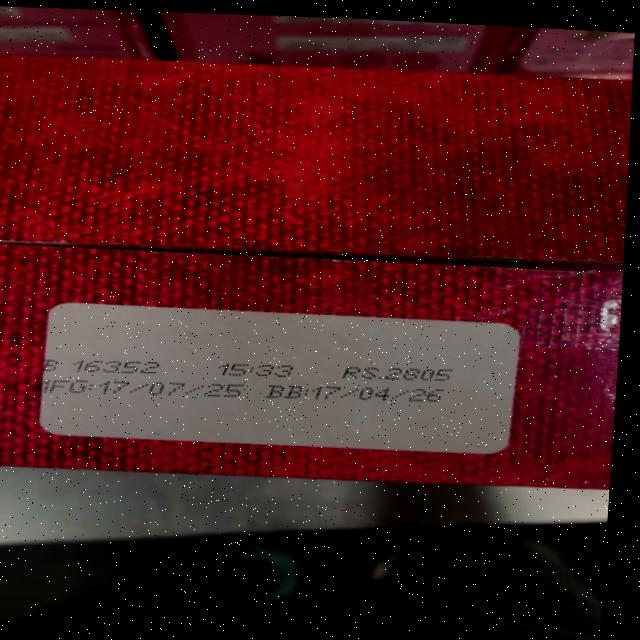BB: (267, 379, 453, 408)
Batch: (40, 356, 163, 377)
MFG: (40, 373, 244, 403)
RS: (339, 362, 455, 383)
TimeStamp: (216, 360, 296, 379)
